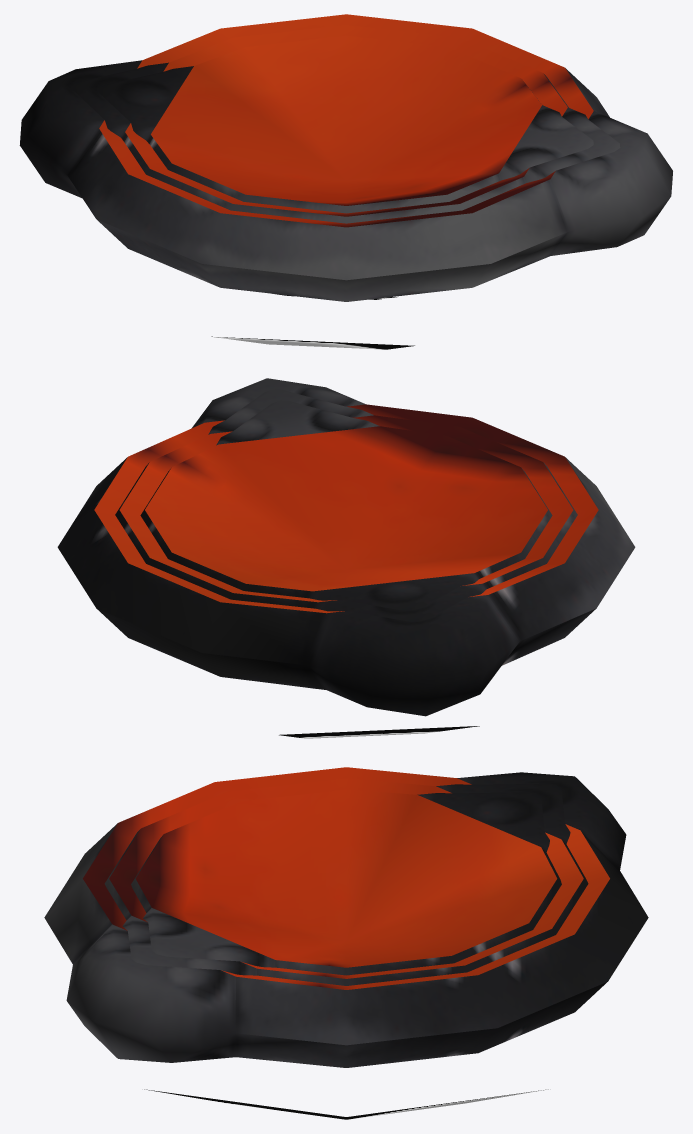
Rendered from breaker.glb.
3 views of the same model, one above another, from view 1: azimuth 30°, elevation 25°; view 2: azimuth 150°, elevation 25°; view 3: azimuth 270°, elevation 25° (orthographic). The views are drawn at different scales.
Parts seen in each view (by area): view 1: rsrc.item.gear.shield.breaker.model-Variant[mesh_shield-r3]- (×2), rsrc.item.gear.shield.breaker.model-Variant[mesh_shield-r1]-, rsrc.item.gear.shield.breaker.model-Variant[mesh_shield-r2]-; view 2: rsrc.item.gear.shield.breaker.model-Variant[mesh_shield-r3]- (×2), rsrc.item.gear.shield.breaker.model-Variant[mesh_shield-r1]-, rsrc.item.gear.shield.breaker.model-Variant[mesh_shield-r2]-; view 3: rsrc.item.gear.shield.breaker.model-Variant[mesh_shield-r3]- (×2), rsrc.item.gear.shield.breaker.model-Variant[mesh_shield-r1]-, rsrc.item.gear.shield.breaker.model-Variant[mesh_shield-r2]-.
Boxes of the visible parts, x1=… form: rsrc.item.gear.shield.breaker.model-Variant[mesh_shield-r3]- (×2): x1=19, y1=14, x2=672, y2=349; rsrc.item.gear.shield.breaker.model-Variant[mesh_shield-r1]-: x1=99, y1=35, x2=593, y2=213; rsrc.item.gear.shield.breaker.model-Variant[mesh_shield-r2]-: x1=72, y1=25, x2=620, y2=223; rsrc.item.gear.shield.breaker.model-Variant[mesh_shield-r3]- (×2): x1=57, y1=378, x2=635, y2=738; rsrc.item.gear.shield.breaker.model-Variant[mesh_shield-r1]-: x1=140, y1=400, x2=552, y2=610; rsrc.item.gear.shield.breaker.model-Variant[mesh_shield-r2]-: x1=115, y1=389, x2=577, y2=621; rsrc.item.gear.shield.breaker.model-Variant[mesh_shield-r3]- (×2): x1=44, y1=767, x2=648, y2=1119; rsrc.item.gear.shield.breaker.model-Variant[mesh_shield-r1]-: x1=131, y1=789, x2=561, y2=975; rsrc.item.gear.shield.breaker.model-Variant[mesh_shield-r2]-: x1=104, y1=778, x2=588, y2=985.
Size of the model in its own units: 0.7051 by 0.2067 by 0.6706.
Materials: 3 (3 with a texture image).
